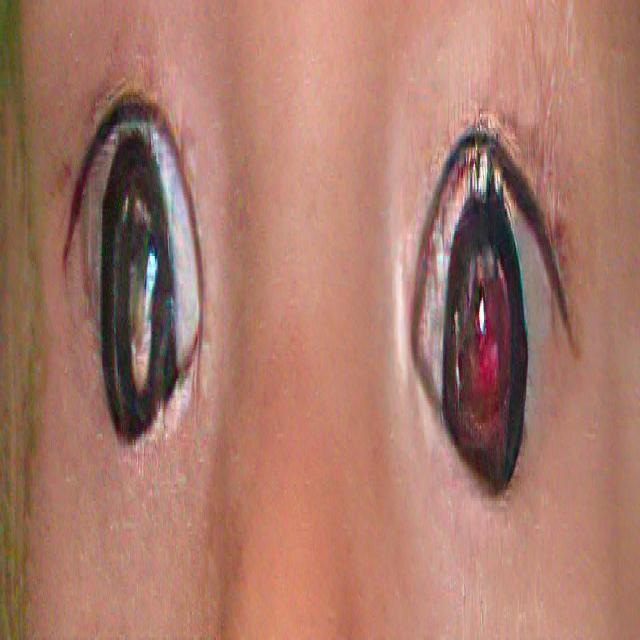reflexo-alterado: (65, 101, 198, 487)
reflexo-normal: (404, 0, 541, 550)
